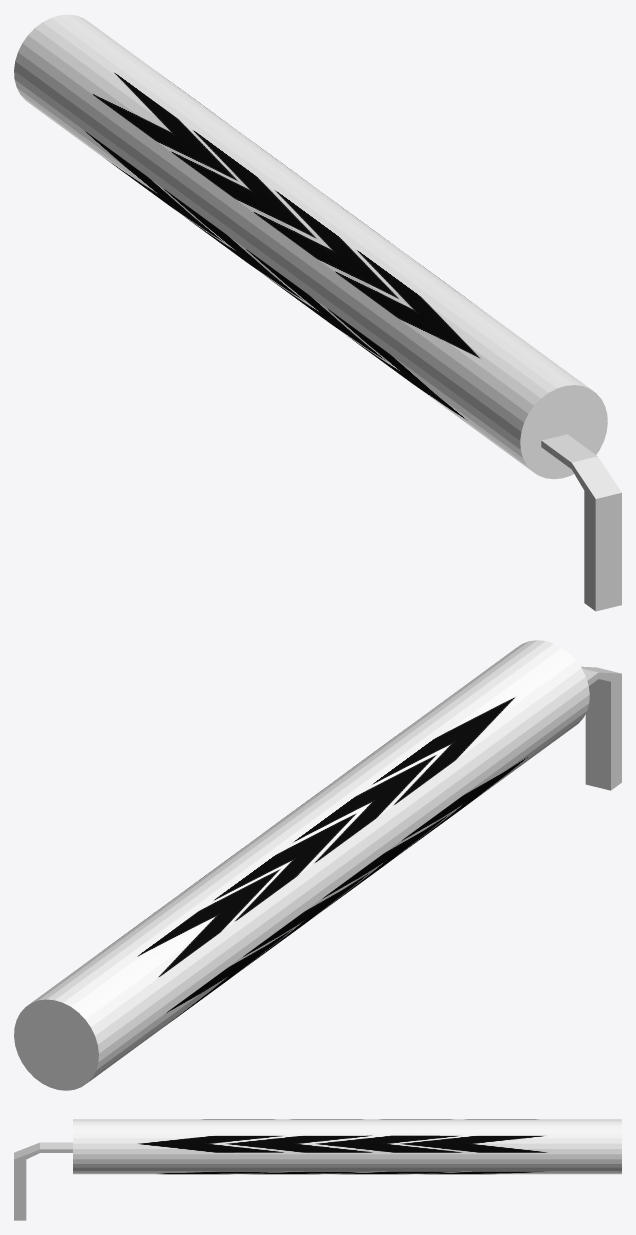
File: Cable2.fbx
3 views of the same model, one above another, from view 1: azimuth 30°, elevation 25°; view 2: azimuth 150°, elevation 25°; view 3: azimuth 270°, elevation 25° (orthographic). The views are drawn at different scales.
Visible parts, largest first — view 1: Cube.001; view 2: Cube.001; view 3: Cube.001.
Part boxes in pixels (x1,y1,x2,y2): Cube.001: (14,14,621,611); Cube.001: (14,640,621,1090); Cube.001: (14,1119,621,1220).
Size of the model in its own units: 49.96 by 98.03 by 554.
